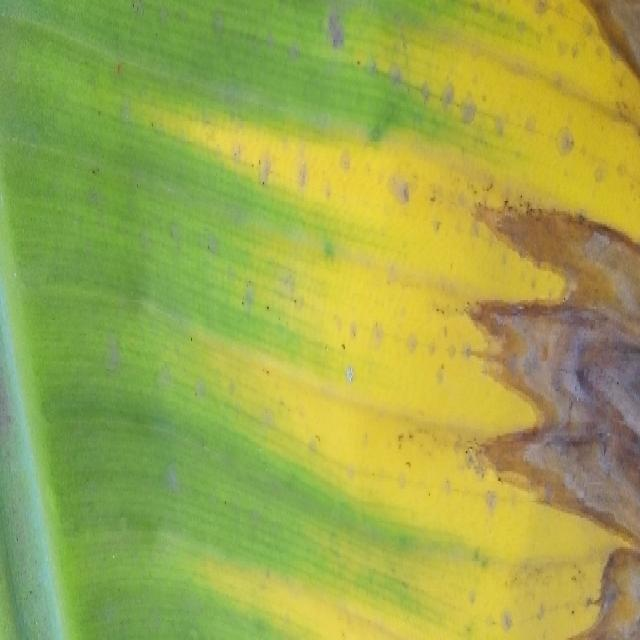Cordana: (114, 0, 640, 639)
